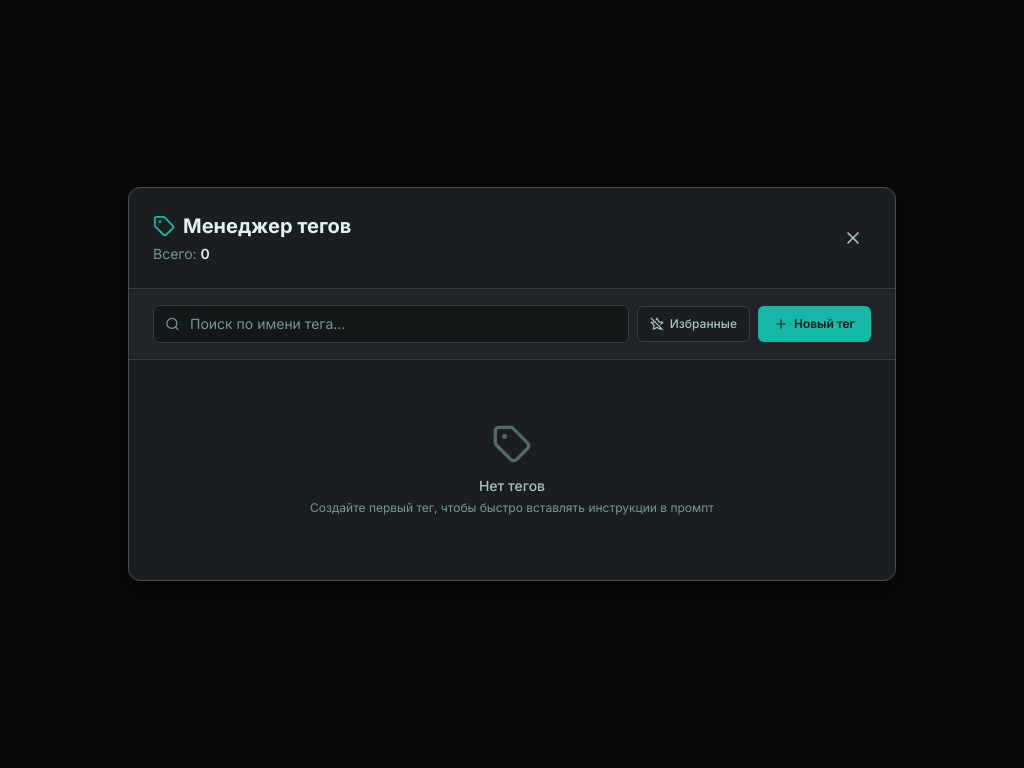
Test: TagManagerModal › Форма создания/редактирования › открывает форму создания по кнопке 'Новый тег'
Check: the text "Нет тегов" is shown, box [479, 477, 545, 494]
Click the button "Новый тег" at (814, 324), box [758, 306, 871, 342]
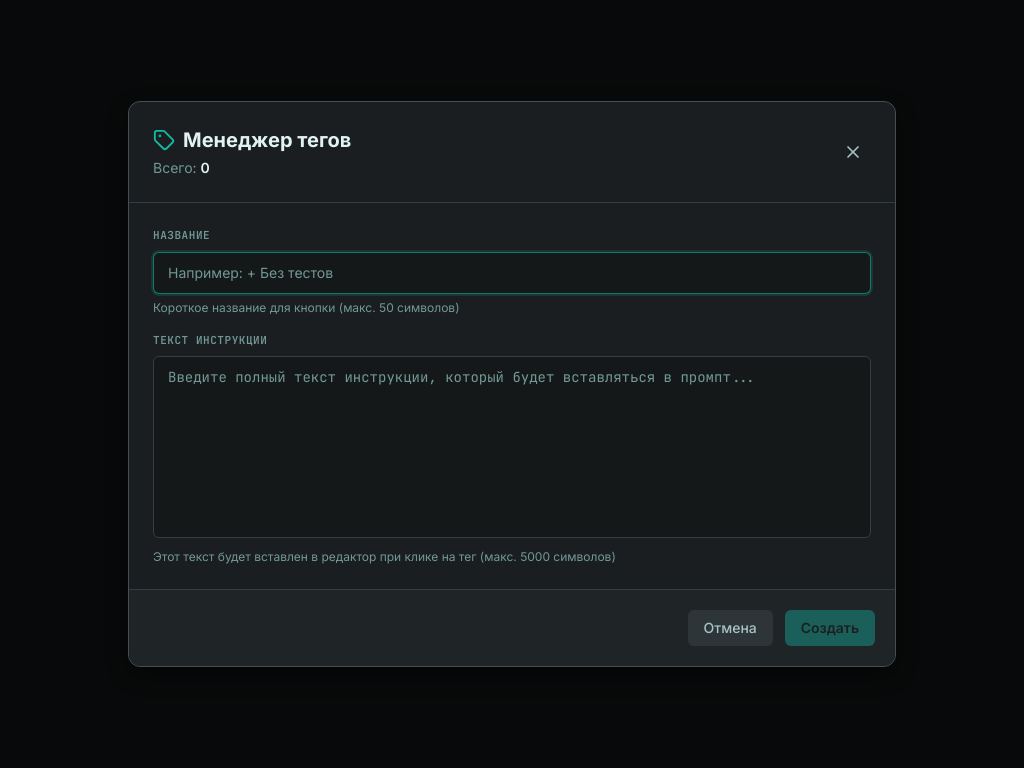
Check: the field labelled "Название" is shown, box [153, 252, 871, 294]
Check: the text box labelled "Текст инструкции" is shown, box [153, 356, 871, 538]
